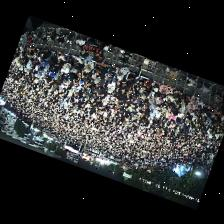person: (125, 62, 142, 83), (60, 55, 73, 75), (105, 62, 119, 80), (38, 54, 51, 69), (65, 66, 76, 83), (139, 78, 153, 91), (159, 84, 172, 96), (95, 62, 107, 75), (73, 56, 84, 69), (116, 66, 127, 78), (130, 81, 140, 94), (172, 89, 182, 102), (56, 49, 65, 63), (46, 69, 57, 80), (92, 84, 102, 96), (72, 74, 82, 86), (152, 106, 160, 121), (82, 68, 92, 80), (107, 78, 115, 92), (40, 49, 50, 60), (93, 72, 104, 82), (84, 59, 93, 71), (121, 81, 130, 93), (104, 68, 111, 83), (187, 101, 195, 114), (148, 99, 156, 112), (95, 77, 105, 87), (164, 101, 174, 111), (115, 75, 124, 86), (203, 104, 212, 115), (196, 98, 203, 112), (178, 101, 185, 115), (147, 90, 155, 102), (165, 92, 173, 104), (168, 111, 175, 124), (118, 93, 126, 104), (41, 62, 49, 73), (156, 92, 164, 102), (161, 105, 168, 116), (98, 40, 107, 48), (102, 94, 109, 104), (25, 59, 31, 70), (21, 46, 28, 55), (152, 81, 159, 90), (27, 47, 34, 56), (139, 87, 144, 98), (174, 100, 180, 108)
